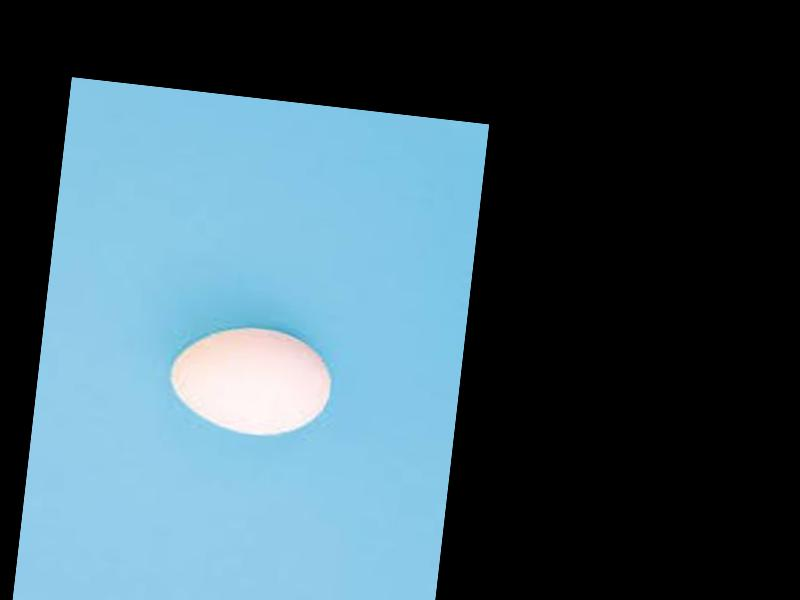Eggs: (162, 317, 336, 441)
